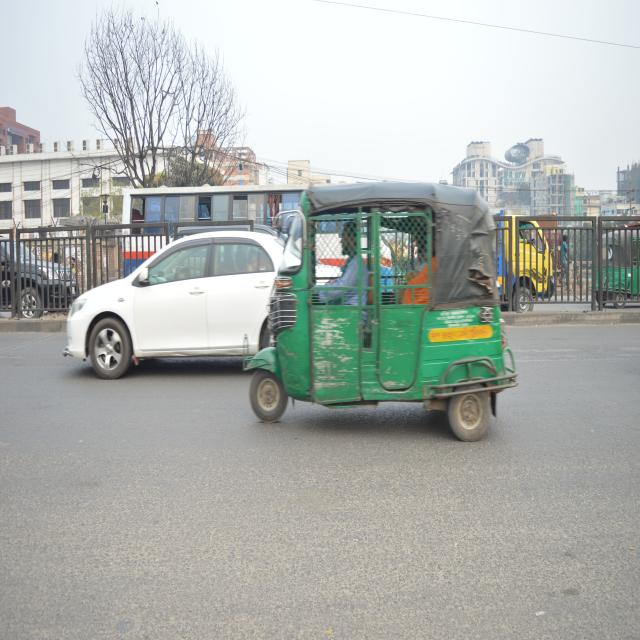bus: (116, 175, 408, 303)
car: (62, 236, 345, 388), (26, 238, 80, 322)
pickup-van: (480, 188, 562, 334)
